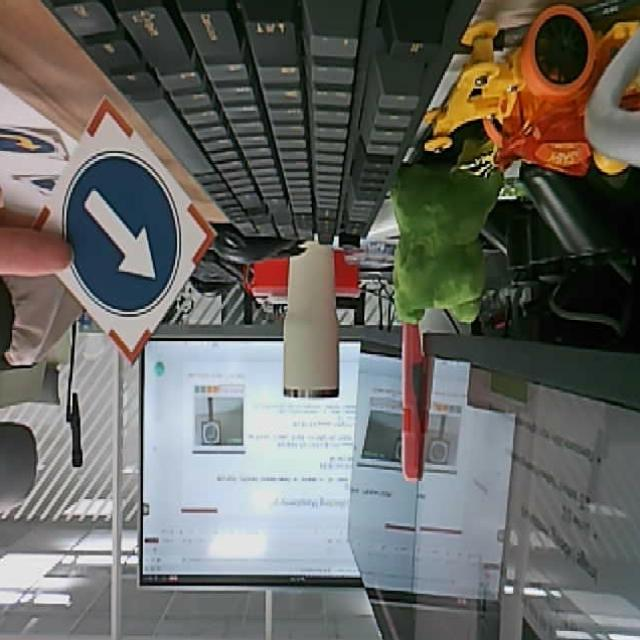straight: (26, 97, 218, 362)
